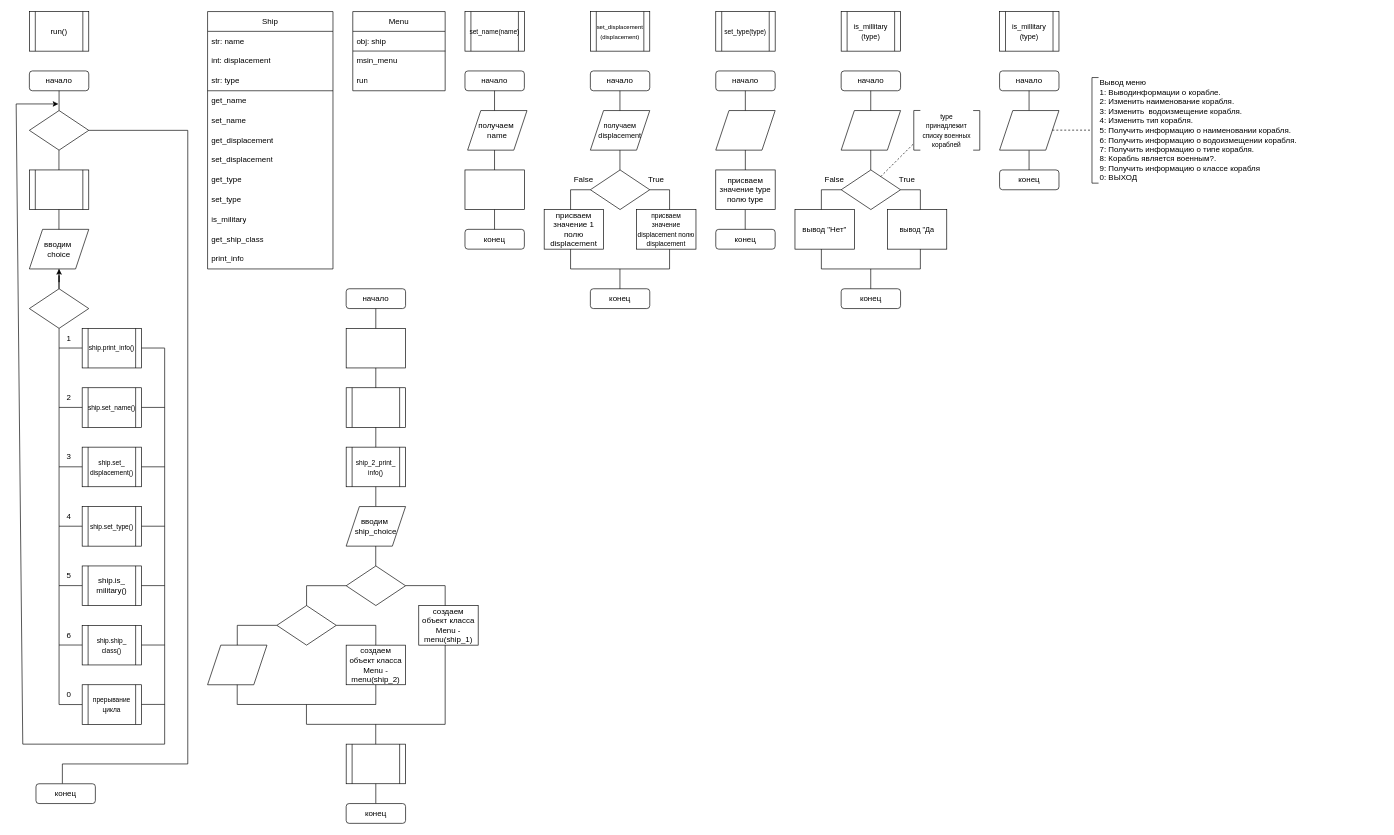
Some shapes in this 1394 by 835 pixel diagram are drawn without their labels. The shapes that lost their labels are listed below. From the top down, each one's centre as x and y in pixels, then its label:
At pixel 59 130: "пока цикл не прервется".
At pixel 745 130: "вводим type".
At pixel 871 130: "получаем type".
At pixel 59 189: "show_menu()".
At pixel 494 189: "присваем значение name полю name".
At pixel 620 189: "displacement>0".
At pixel 59 308: "choice".
At pixel 376 348: "создаем 2 объекта класса Ship ship1 и ship2".
At pixel 376 407: "ship_1_print_ info()".
At pixel 376 585: "ship_choice = 1".
At pixel 306 625: "ship_choice = 2".
At pixel 237 664: "вывод ошибки".
At pixel 376 763: "menu.run()".
